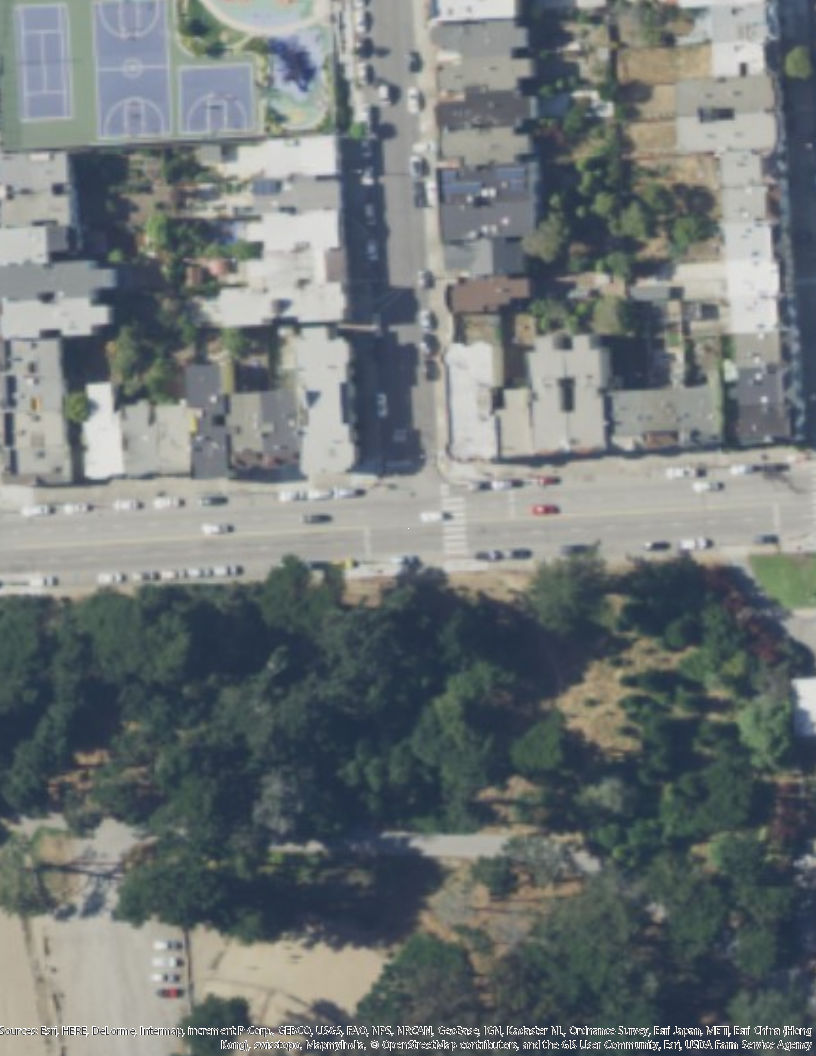zebracross: (440, 495, 472, 555)
